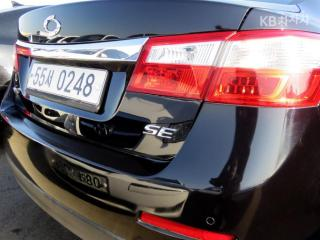0: (56, 68, 66, 91)
2: (65, 71, 75, 93)
4: (74, 71, 84, 97)
5: (33, 64, 40, 86), (40, 66, 47, 87)
8: (83, 73, 95, 97)
서: (46, 70, 54, 87)
